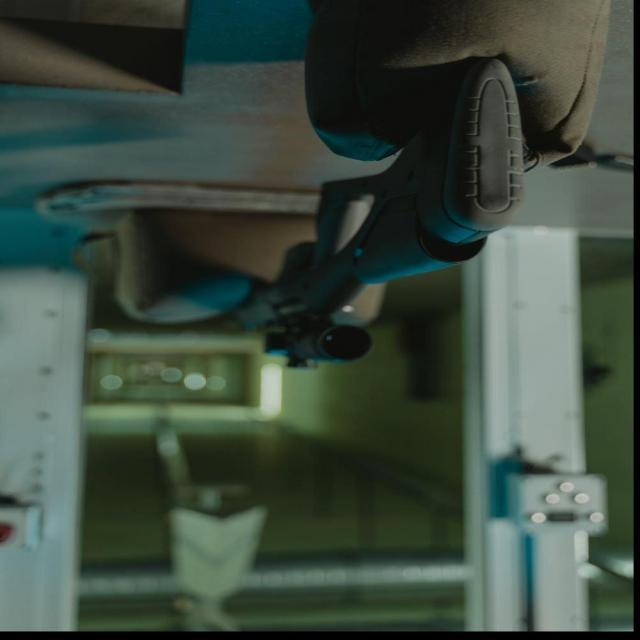weapon: (263, 58, 532, 374)
